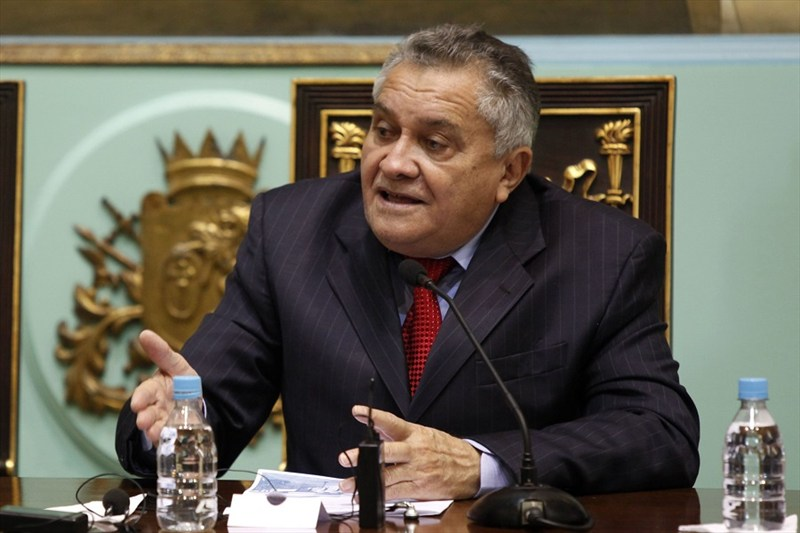Soto Ayam: (62, 52, 698, 522)
